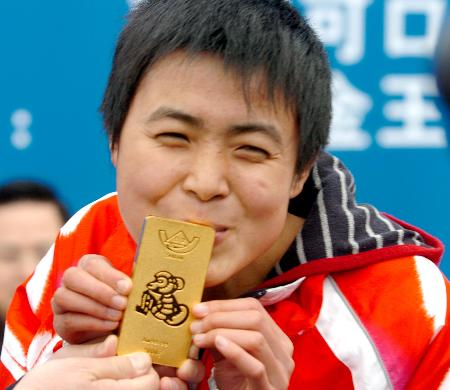face: (118, 53, 296, 283), (1, 206, 66, 316)
